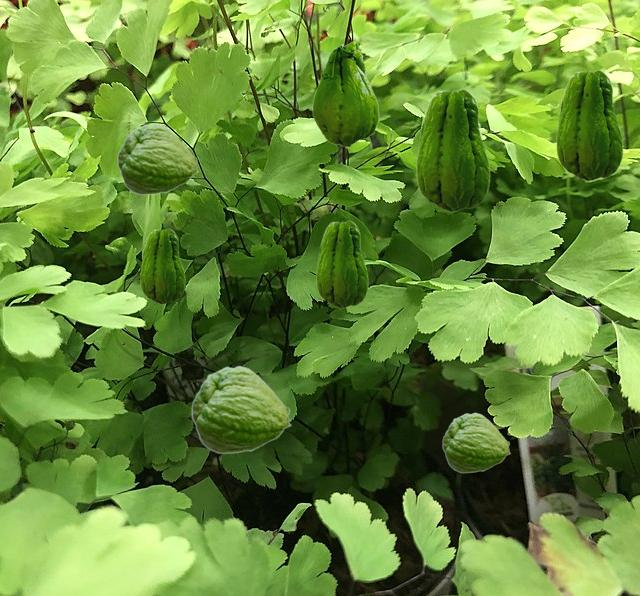sayote: (416, 88, 489, 211), (191, 365, 291, 453), (556, 69, 622, 180), (312, 41, 378, 146), (117, 123, 198, 194), (316, 220, 367, 307), (442, 412, 510, 472), (140, 228, 184, 303)
